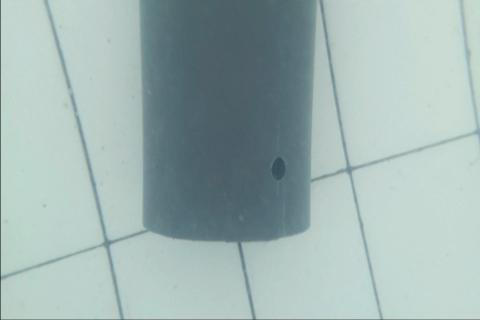kebocoran: (269, 156, 286, 183)
